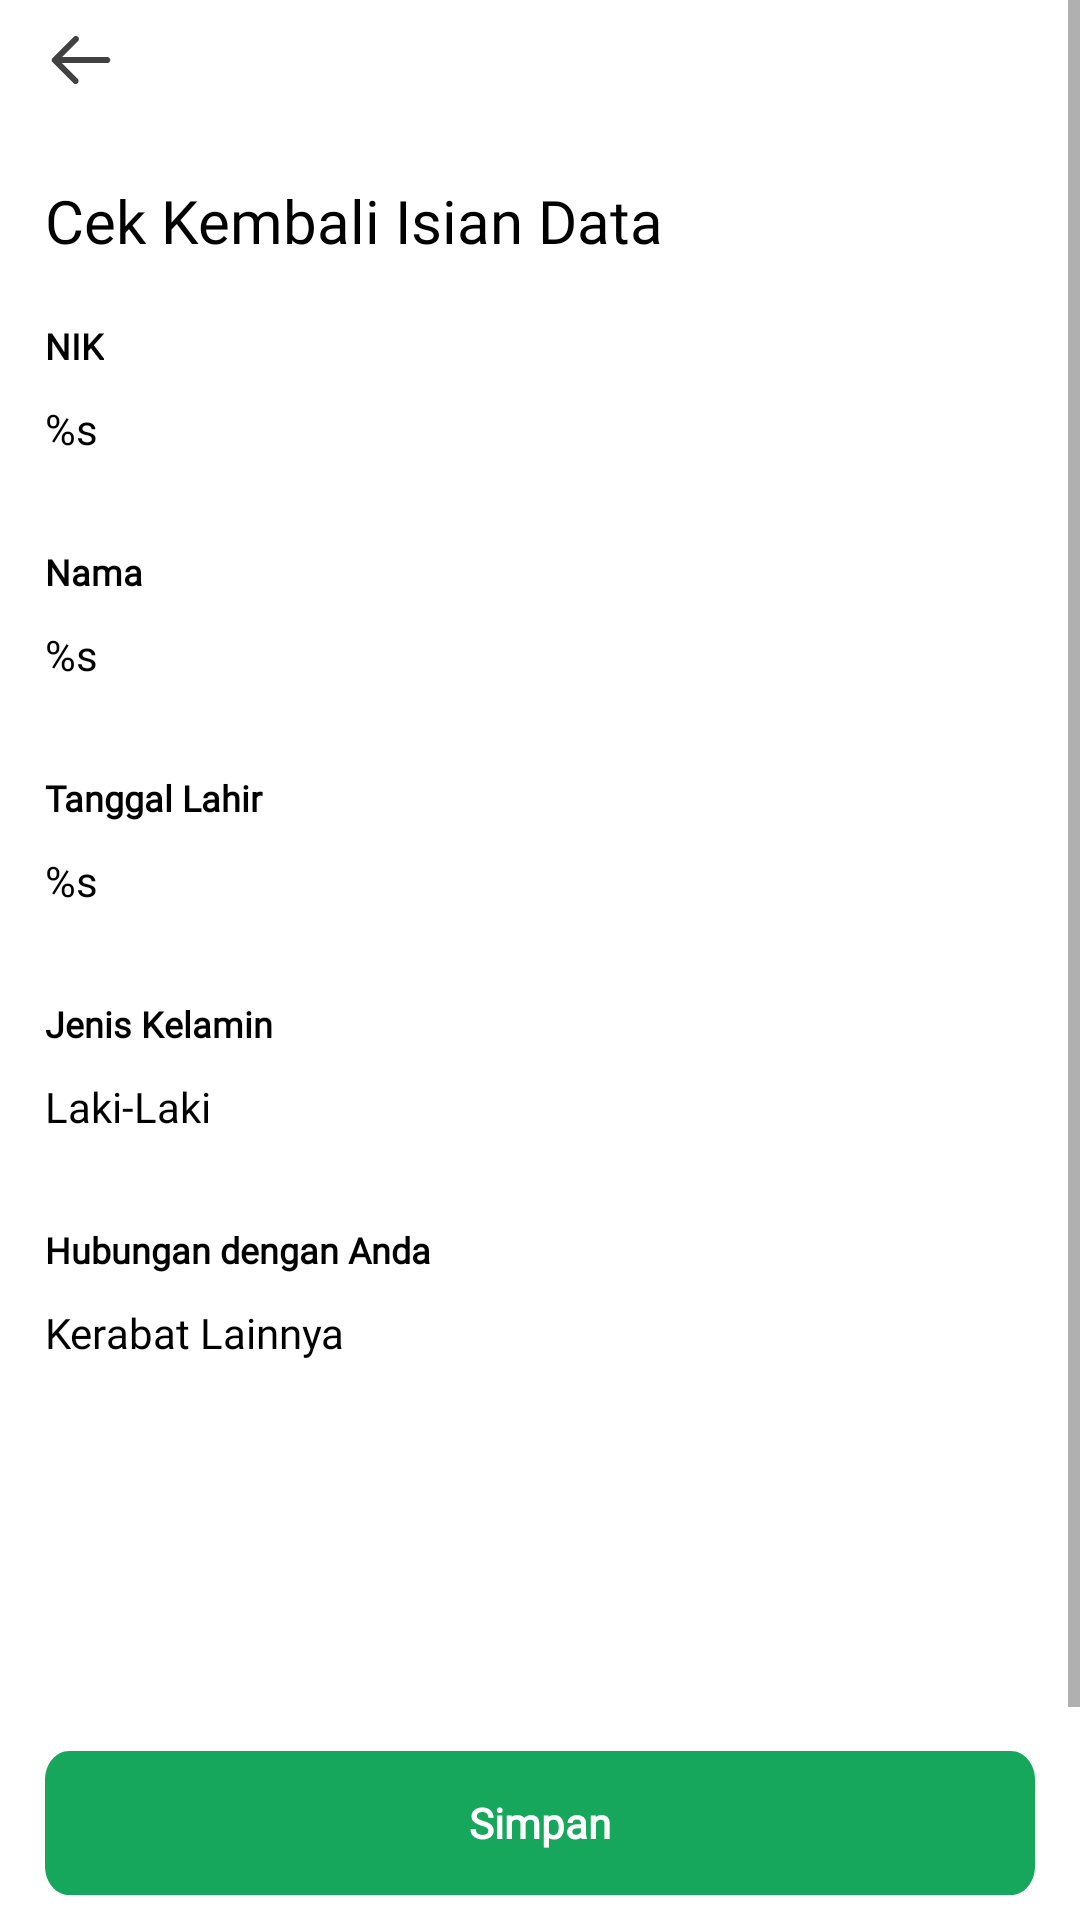

Icon bounding boxes for this 1080w x 1920h phone screenshot, format (x1, y1, x2, y2):
panah back: (51, 36, 111, 84)
